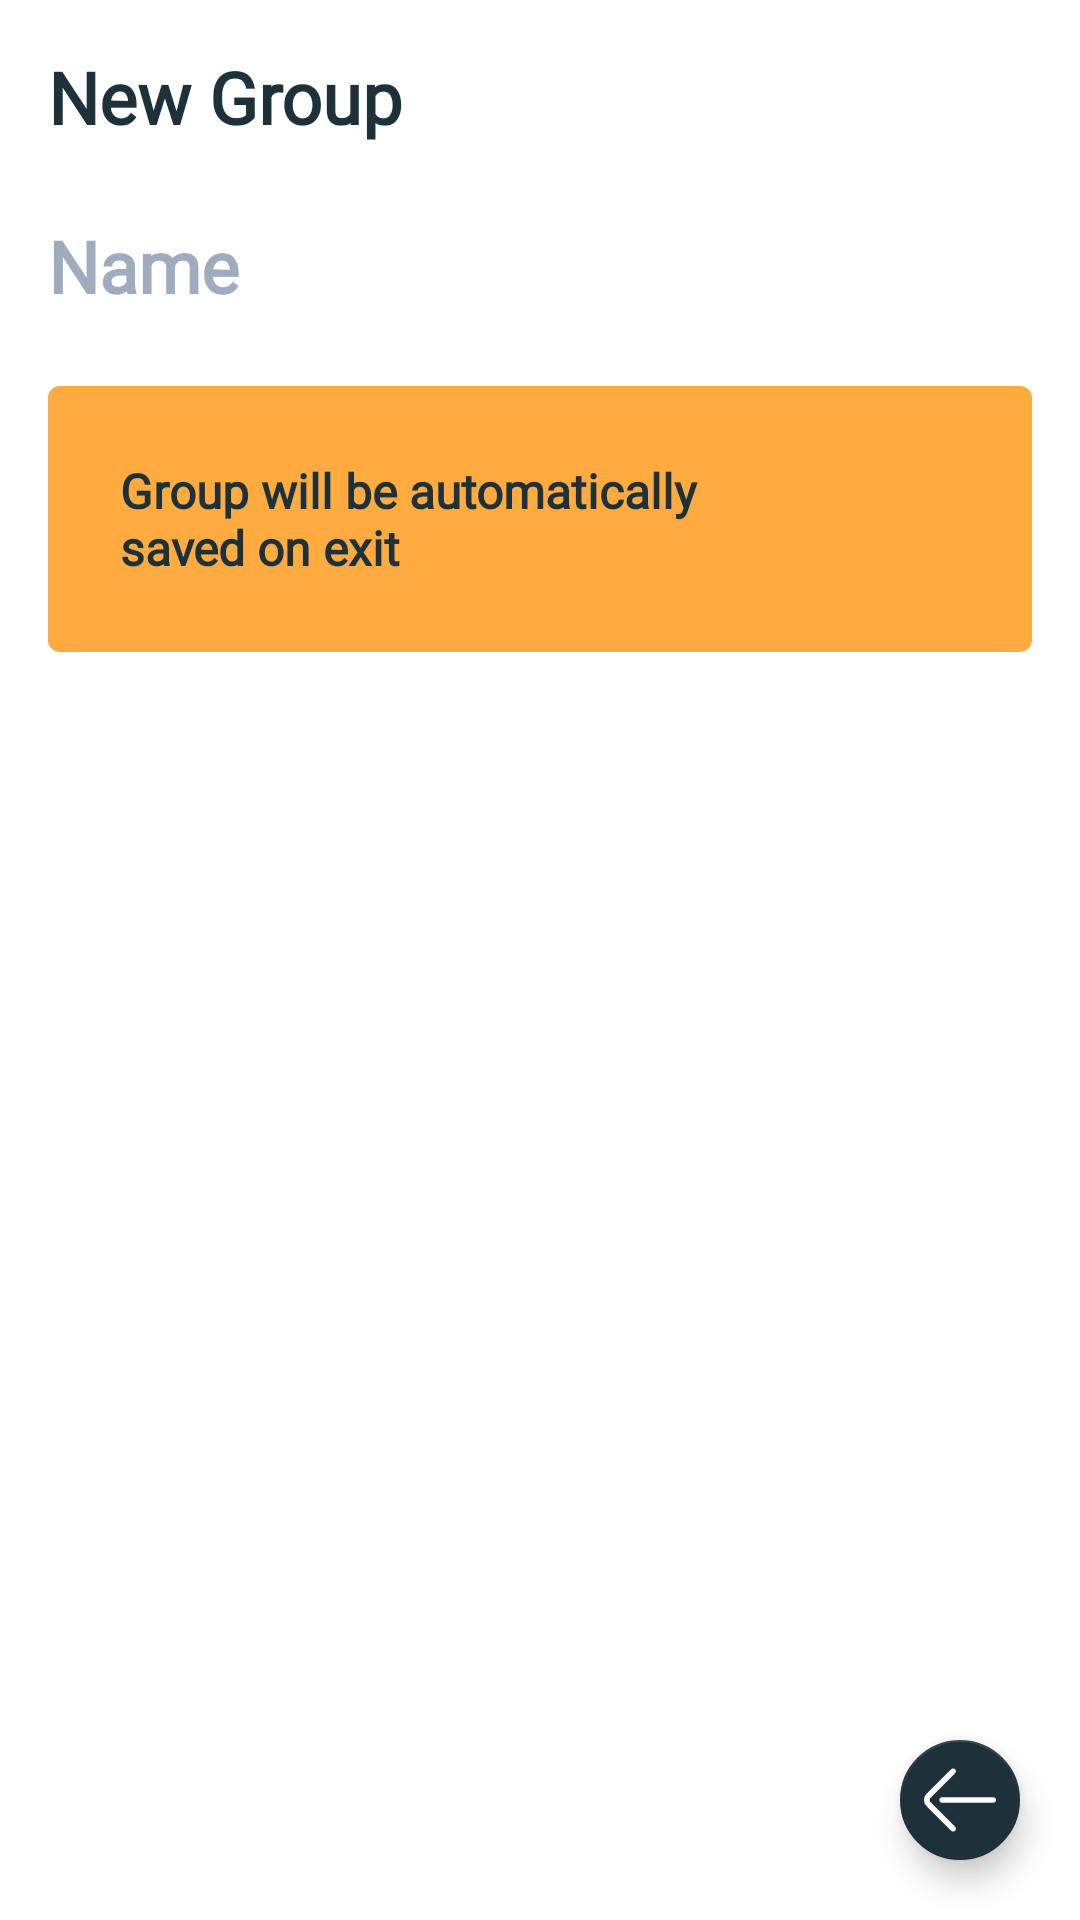

Point at icon controls on the screen. Image size 1080*1920, points as [x,y].
arrow back: [961,1806]
